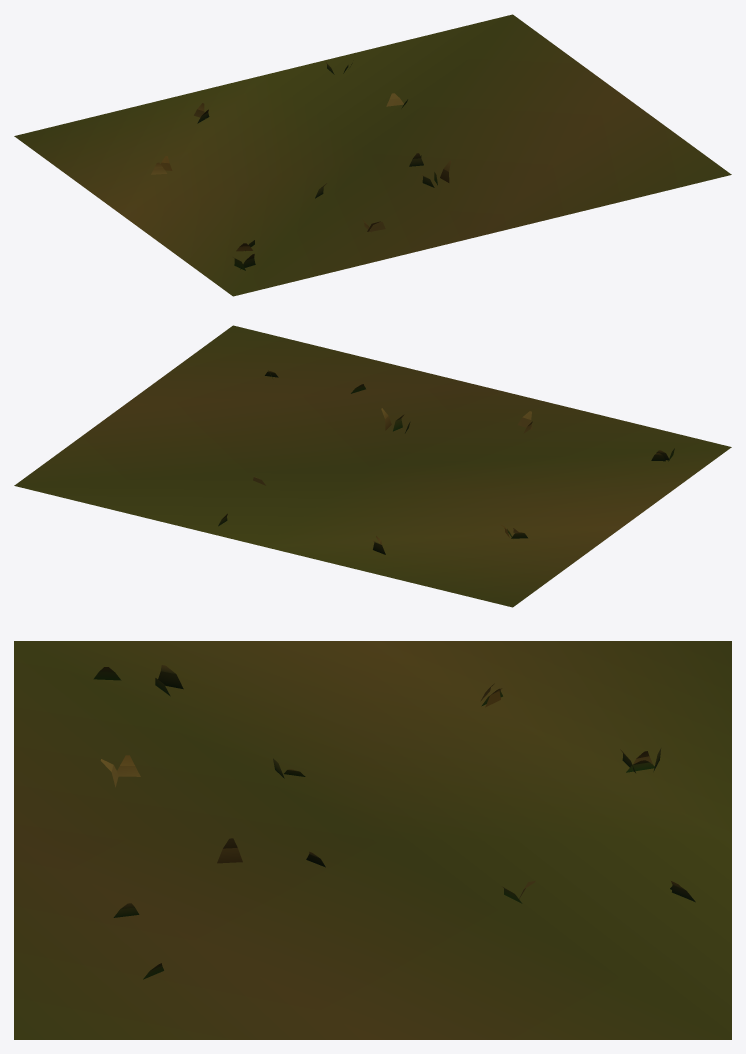
Rendered from fm_turf_low_lod1.glb.
3 views of the same model, one above another, from view 1: azimuth 30°, elevation 25°; view 2: azimuth 150°, elevation 25°; view 3: azimuth 270°, elevation 25° (orthographic). The views are drawn at different scales.
Parts seen in each view (by area): view 1: fm_turf_low_lod1; view 2: fm_turf_low_lod1; view 3: fm_turf_low_lod1.
Part boxes in pixels (<box>): fm_turf_low_lod1: <box>14,14,731,296</box>; fm_turf_low_lod1: <box>14,325,731,607</box>; fm_turf_low_lod1: <box>14,641,731,1039</box>.
Size of the model in its own units: 2.3 by 0.0796 by 1.75.
